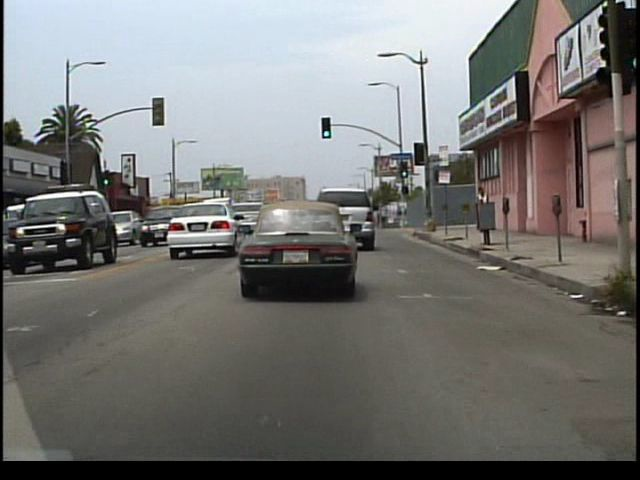person: (473, 183, 493, 233)
